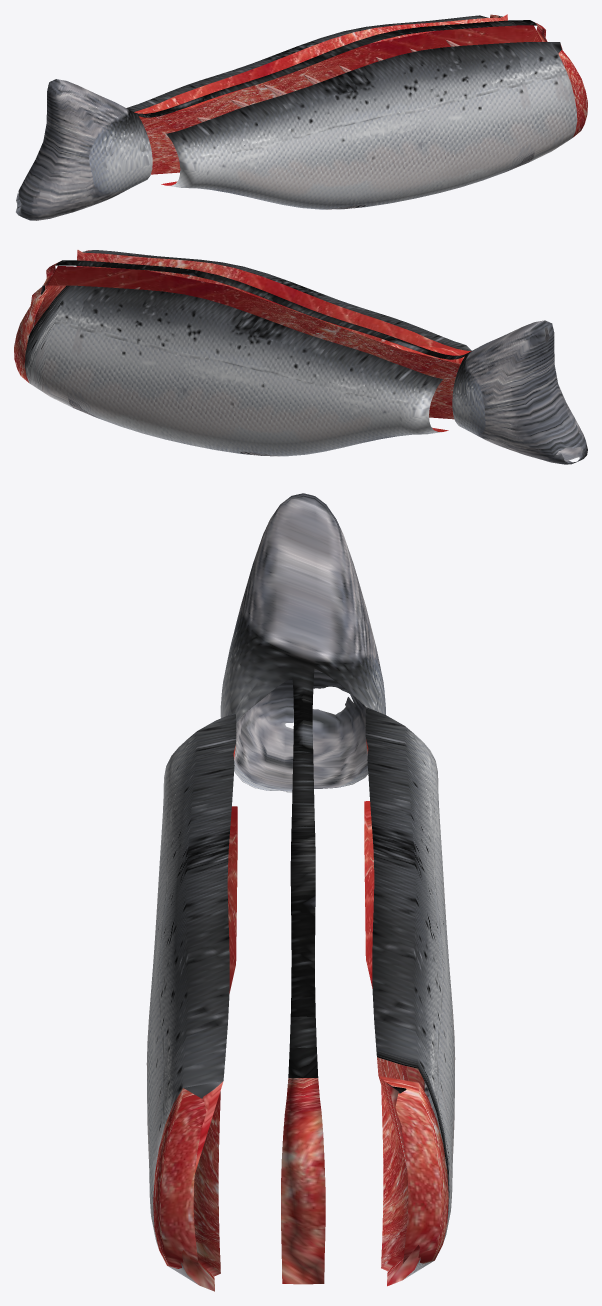
The picture shows the model from 3 angles, top to bottom: view 1: azimuth 30°, elevation 25°; view 2: azimuth 150°, elevation 25°; view 3: azimuth 270°, elevation 25°; orthographic projection. The views are drawn at different scales.
Parts seen in each view (by area): view 1: prototype.018, Plane, prototype.017; view 2: prototype.017, Plane, prototype.018; view 3: Plane, prototype.018, prototype.017.
Part boxes in pixels (<box>): prototype.018: <box>161,42,587,209</box>; Plane: <box>16,20,547,220</box>; prototype.017: <box>126,14,507,119</box>; prototype.017: <box>14,285,448,456</box>; Plane: <box>30,260,587,464</box>; prototype.018: <box>76,250,471,363</box>; Plane: <box>220,493,385,1284</box>; prototype.018: <box>146,712,237,1291</box>; prototype.017: <box>364,707,455,1286</box>.
Size of the model in its own units: 666 by 213 by 165.
